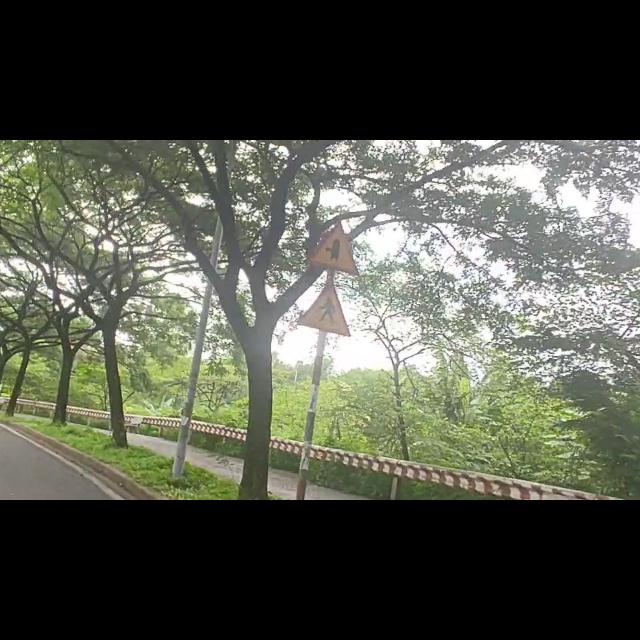bien_nguy_hiem: (297, 242, 355, 347), (306, 141, 365, 242)
